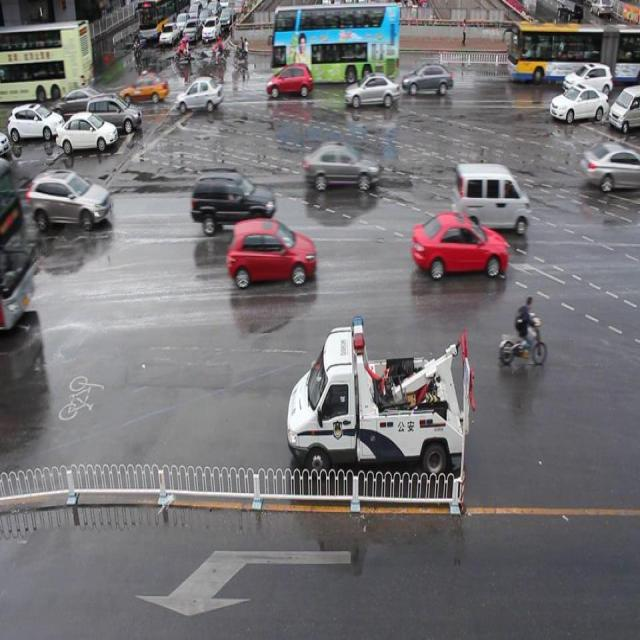car: (412, 210, 508, 279), (224, 218, 314, 286), (189, 168, 276, 227), (303, 141, 379, 194), (578, 142, 640, 193), (548, 83, 605, 123), (560, 60, 610, 101), (345, 71, 398, 107), (402, 62, 452, 98), (265, 63, 312, 101), (176, 77, 223, 113)
truck: (454, 163, 526, 233)
van: (269, 8, 399, 82), (506, 21, 640, 83)
